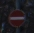No entry: (6, 6, 29, 28)
